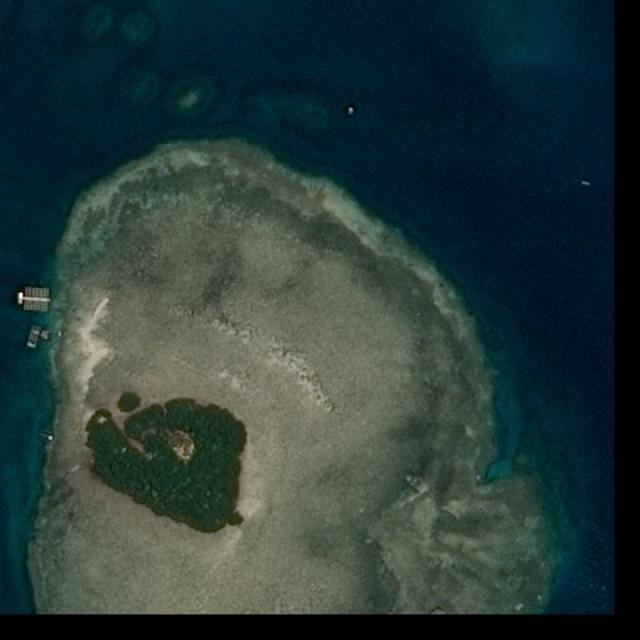ship: (582, 180, 591, 186)
